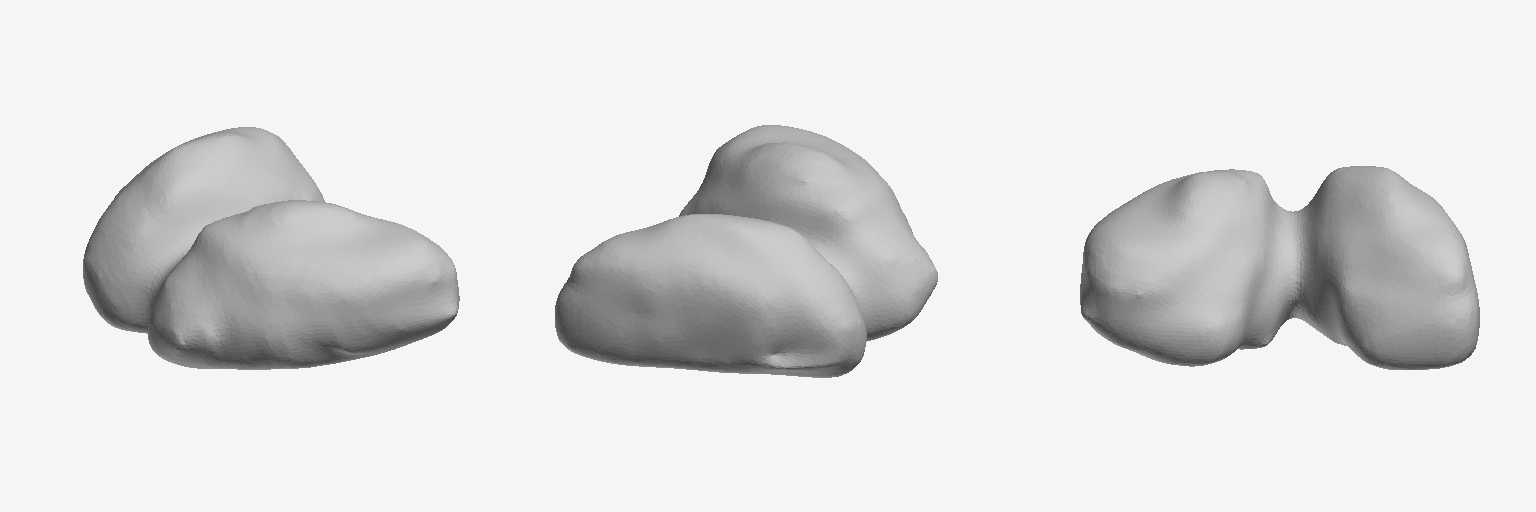
Rendered from Thalamus.obj.
3 views of the same model, side by side, from view 1: azimuth 30°, elevation 25°; view 2: azimuth 150°, elevation 25°; view 3: azimuth 270°, elevation 25° (orthographic).
Parts seen in each view (by area): view 1: Thalamus; view 2: Thalamus; view 3: Thalamus.
Part boxes in pixels (x1,y1,x2,y2): Thalamus: (83, 127, 459, 369); Thalamus: (555, 125, 937, 377); Thalamus: (1080, 166, 1479, 369).
Bounding box in the file's own units: 54.45 × 31.49 × 73.8.